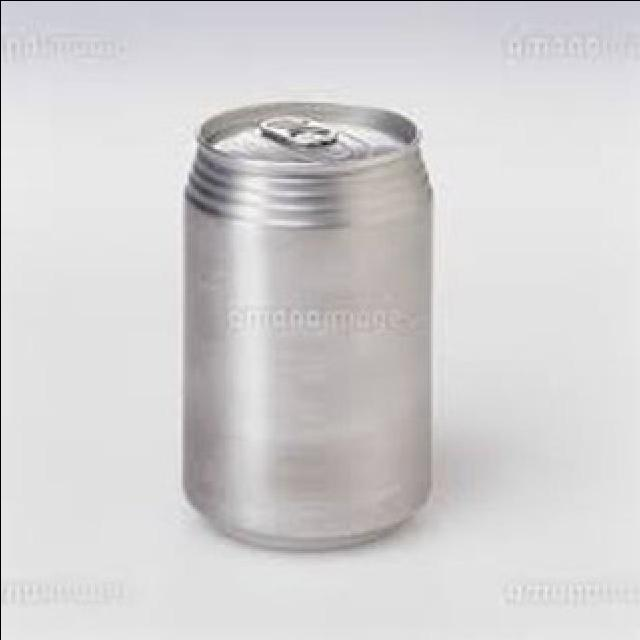can: (179, 96, 434, 552)
